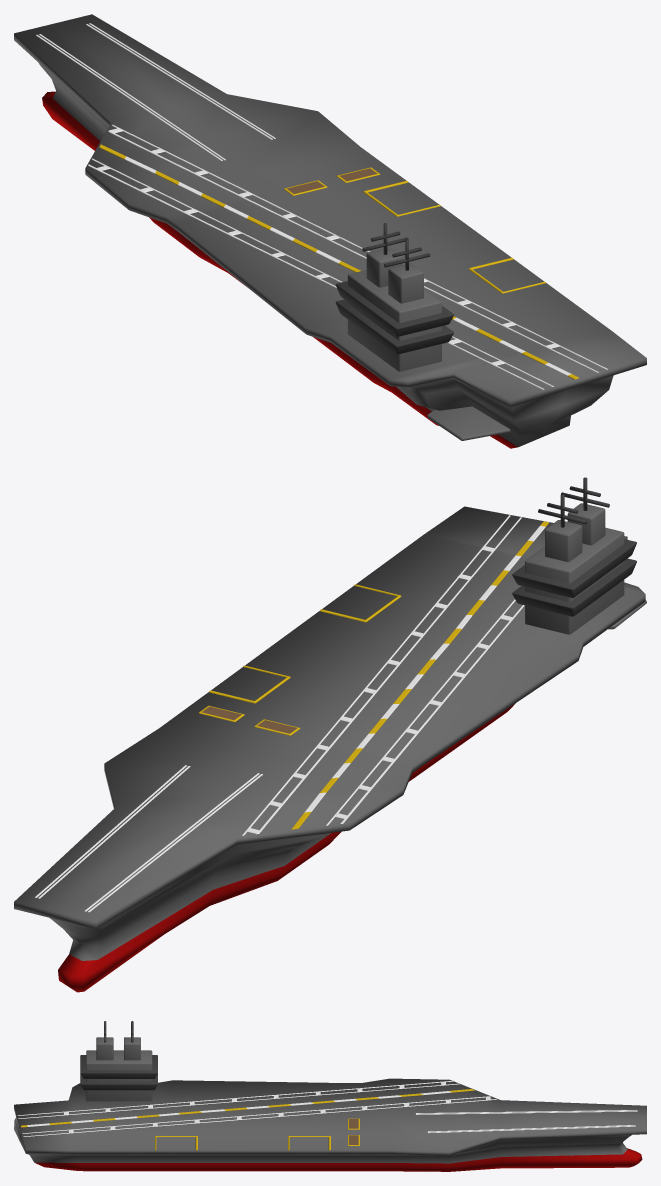
The model's file is aircraft-carrier.glb.
3 renders of one model, top to bottom at view 1: azimuth 30°, elevation 25°; view 2: azimuth 150°, elevation 25°; view 3: azimuth 270°, elevation 25°, orthographic. The views are drawn at different scales.
Visible parts, largest first — view 1: Cube, Cube.002, Cube.013, Cube.015, Cube.011, Cube.005, Cube.006, Cube.001, Cube.004, Cube.008, Cube.009, Cube.003; view 2: Cube, Cube.002, Cube.013, Cube.015, Cube.005, Cube.006, Cube.011, Cube.003, Cube.008, Cube.004, Cube.009; view 3: Cube, Cube.002, Cube.013, Cube.011, Cube.015, Cube.005, Cube.006, Cube.008, Cube.009, Cube.004, Cube.003.
Part boxes in pixels (x1=…): Cube: x1=14, y1=14, x2=646, y2=448; Cube.002: x1=347, y1=270, x2=441, y2=371; Cube.013: x1=108, y1=124, x2=607, y2=372; Cube.015: x1=99, y1=144, x2=578, y2=379; Cube.011: x1=88, y1=158, x2=553, y2=389; Cube.005: x1=335, y1=281, x2=453, y2=336; Cube.006: x1=335, y1=299, x2=453, y2=354; Cube.001: x1=427, y1=406, x2=510, y2=440; Cube.004: x1=388, y1=263, x2=423, y2=303; Cube.008: x1=36, y1=34, x2=225, y2=160; Cube.009: x1=86, y1=23, x2=275, y2=139; Cube.003: x1=366, y1=247, x2=402, y2=287; Cube: x1=14, y1=506, x2=645, y2=992; Cube.002: x1=525, y1=527, x2=624, y2=634; Cube.013: x1=242, y1=515, x2=521, y2=835; Cube.015: x1=291, y1=521, x2=548, y2=829; Cube.005: x1=512, y1=539, x2=636, y2=597; Cube.006: x1=512, y1=558, x2=636, y2=616; Cube.011: x1=326, y1=599, x2=524, y2=825; Cube.003: x1=545, y1=520, x2=582, y2=561; Cube.008: x1=84, y1=773, x2=262, y2=912; Cube.004: x1=567, y1=503, x2=605, y2=545; Cube.009: x1=35, y1=765, x2=190, y2=898; Cube: x1=14, y1=1078, x2=646, y2=1171; Cube.002: x1=86, y1=1050, x2=152, y2=1101; Cube.013: x1=22, y1=1096, x2=496, y2=1136; Cube.011: x1=17, y1=1081, x2=459, y2=1118; Cube.015: x1=20, y1=1089, x2=474, y2=1127; Cube.005: x1=80, y1=1055, x2=157, y2=1078; Cube.006: x1=80, y1=1073, x2=157, y2=1090; Cube.008: x1=415, y1=1110, x2=637, y2=1114; Cube.009: x1=427, y1=1125, x2=635, y2=1133; Cube.004: x1=96, y1=1037, x2=113, y2=1060; Cube.003: x1=124, y1=1037, x2=140, y2=1060.
Size of the model in its own units: 41.97 by 33.55 by 154.
Materials: 1 (1 with a texture image).
